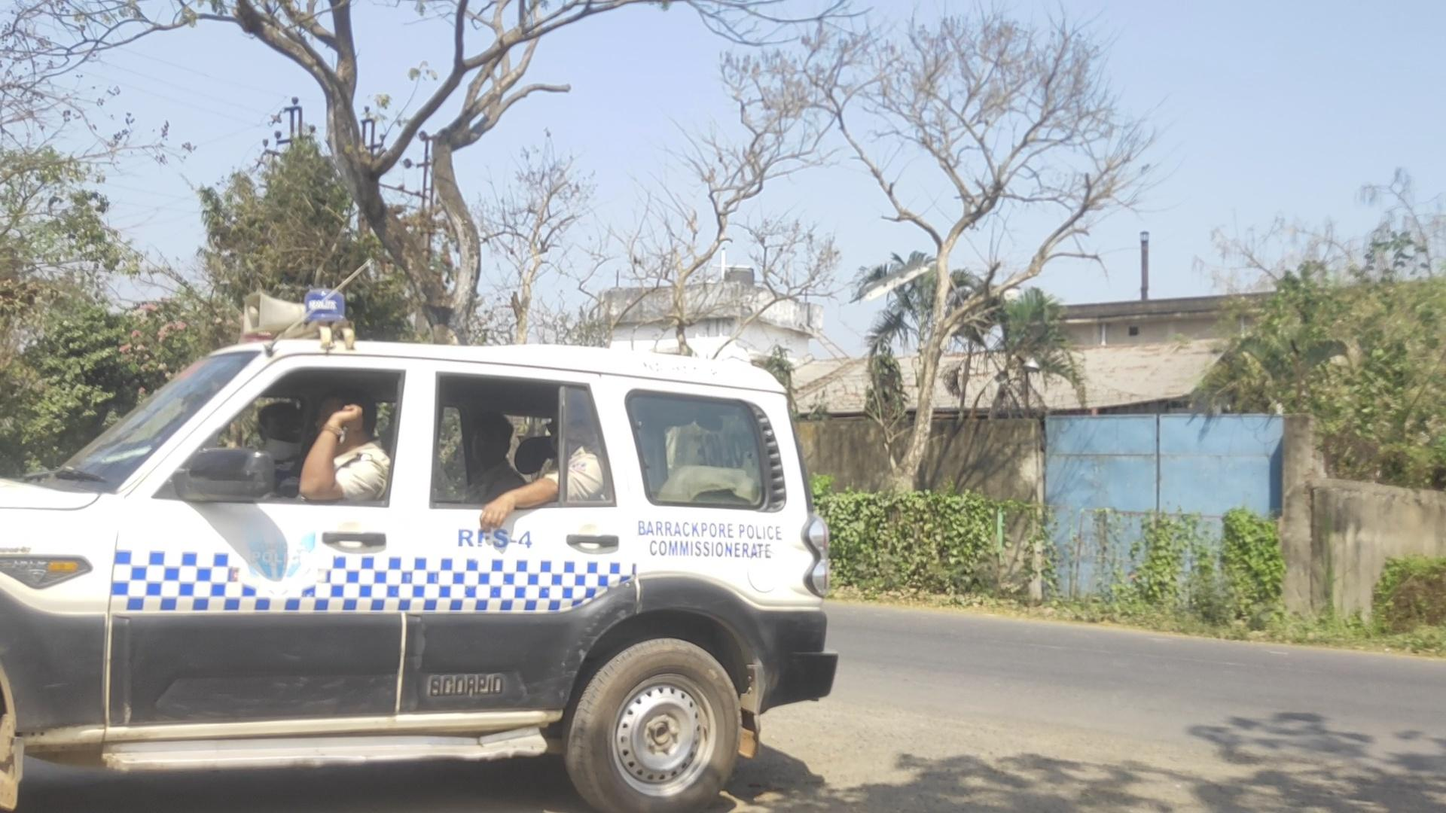car: (1, 292, 837, 813)
